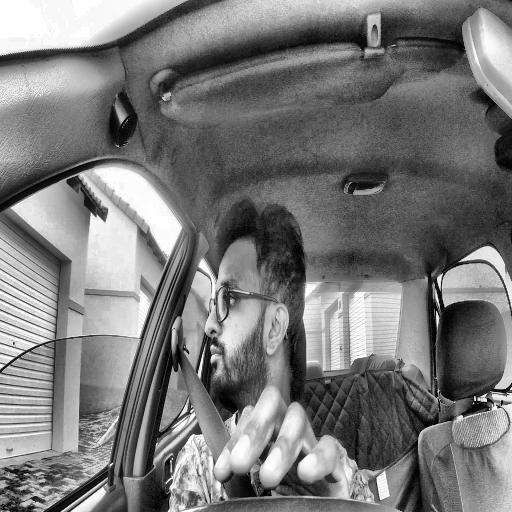awake: (204, 197, 306, 402)
